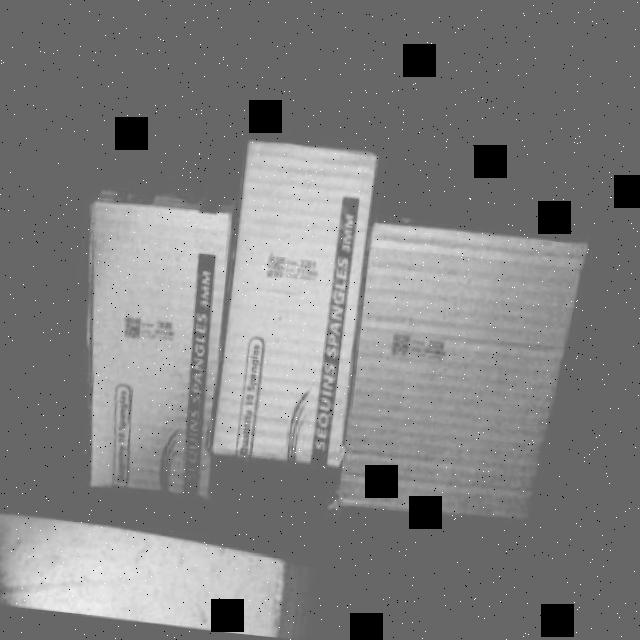box: (346, 220, 580, 539), (62, 198, 244, 500), (216, 140, 386, 462)
